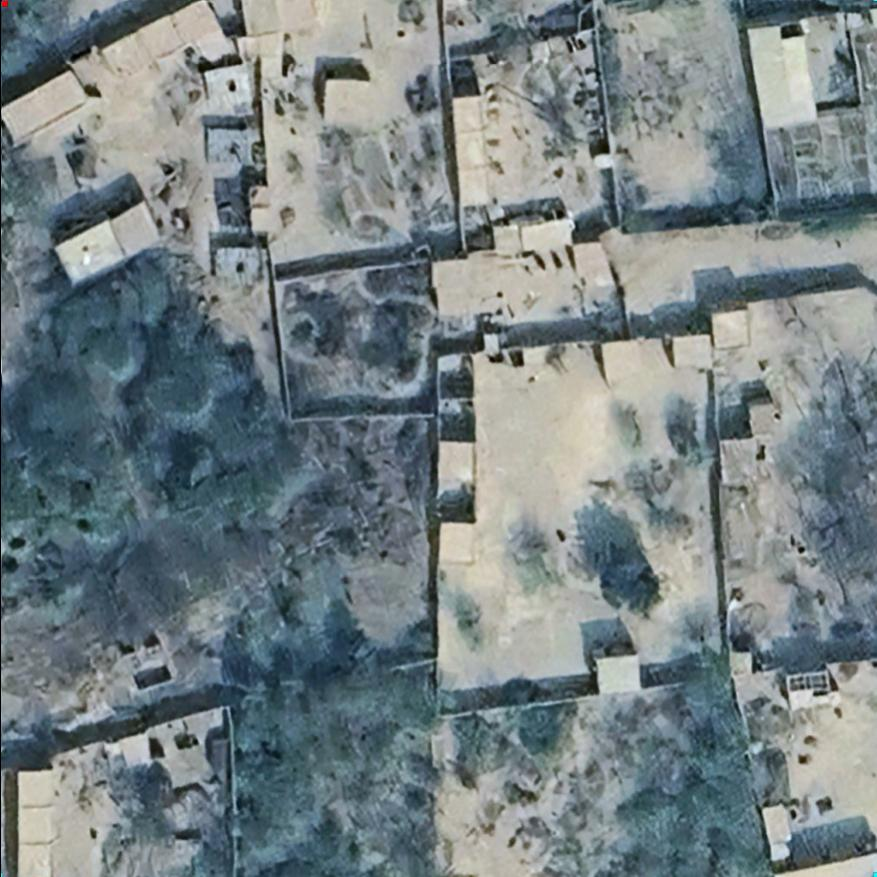Solarpanel: (788, 672, 828, 692), (614, 699, 614, 701)
